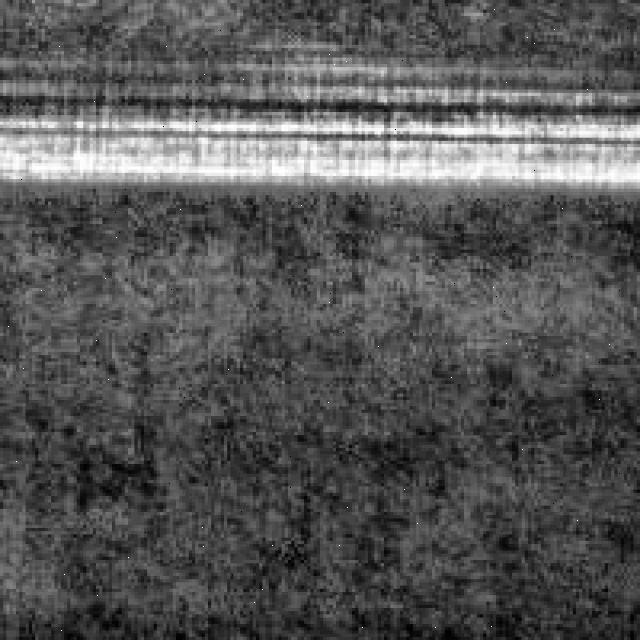Inclusion: (0, 76, 605, 180)
